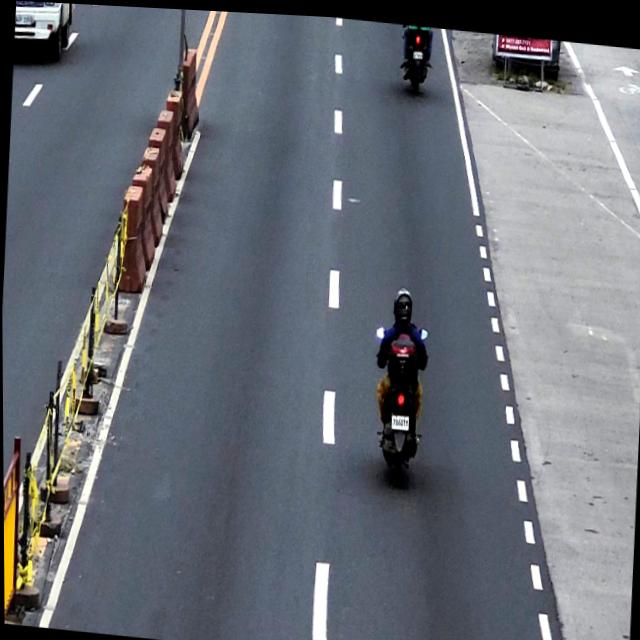License-Plate: (390, 409, 409, 428), (413, 47, 423, 56)
Motorcycle: (370, 320, 429, 484), (400, 20, 433, 95)
